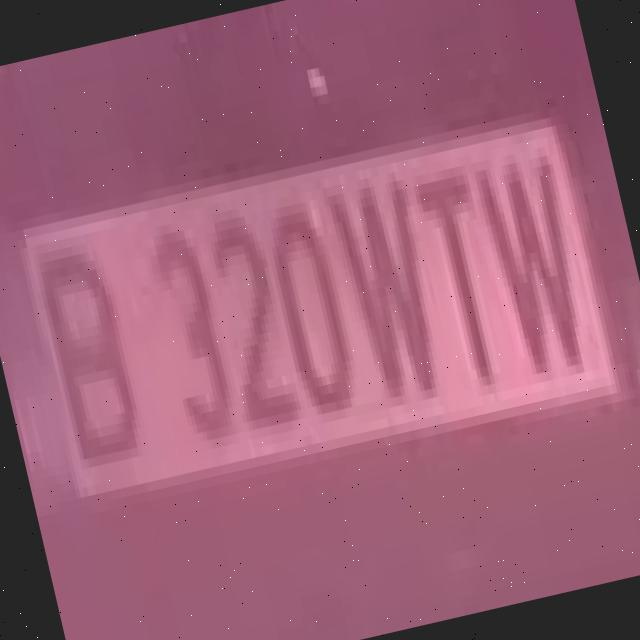Autre: (18, 106, 626, 522)
